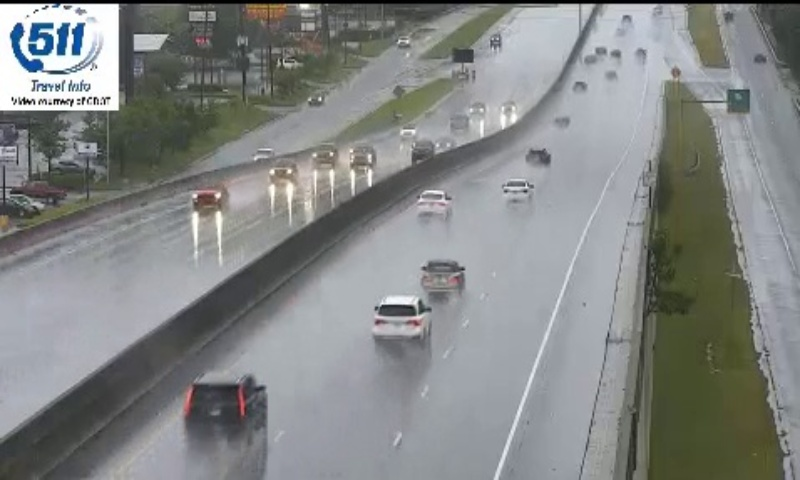car: (185, 373, 269, 434), (373, 295, 430, 340), (420, 259, 463, 295), (416, 188, 450, 219), (502, 177, 532, 203), (525, 146, 550, 167)
